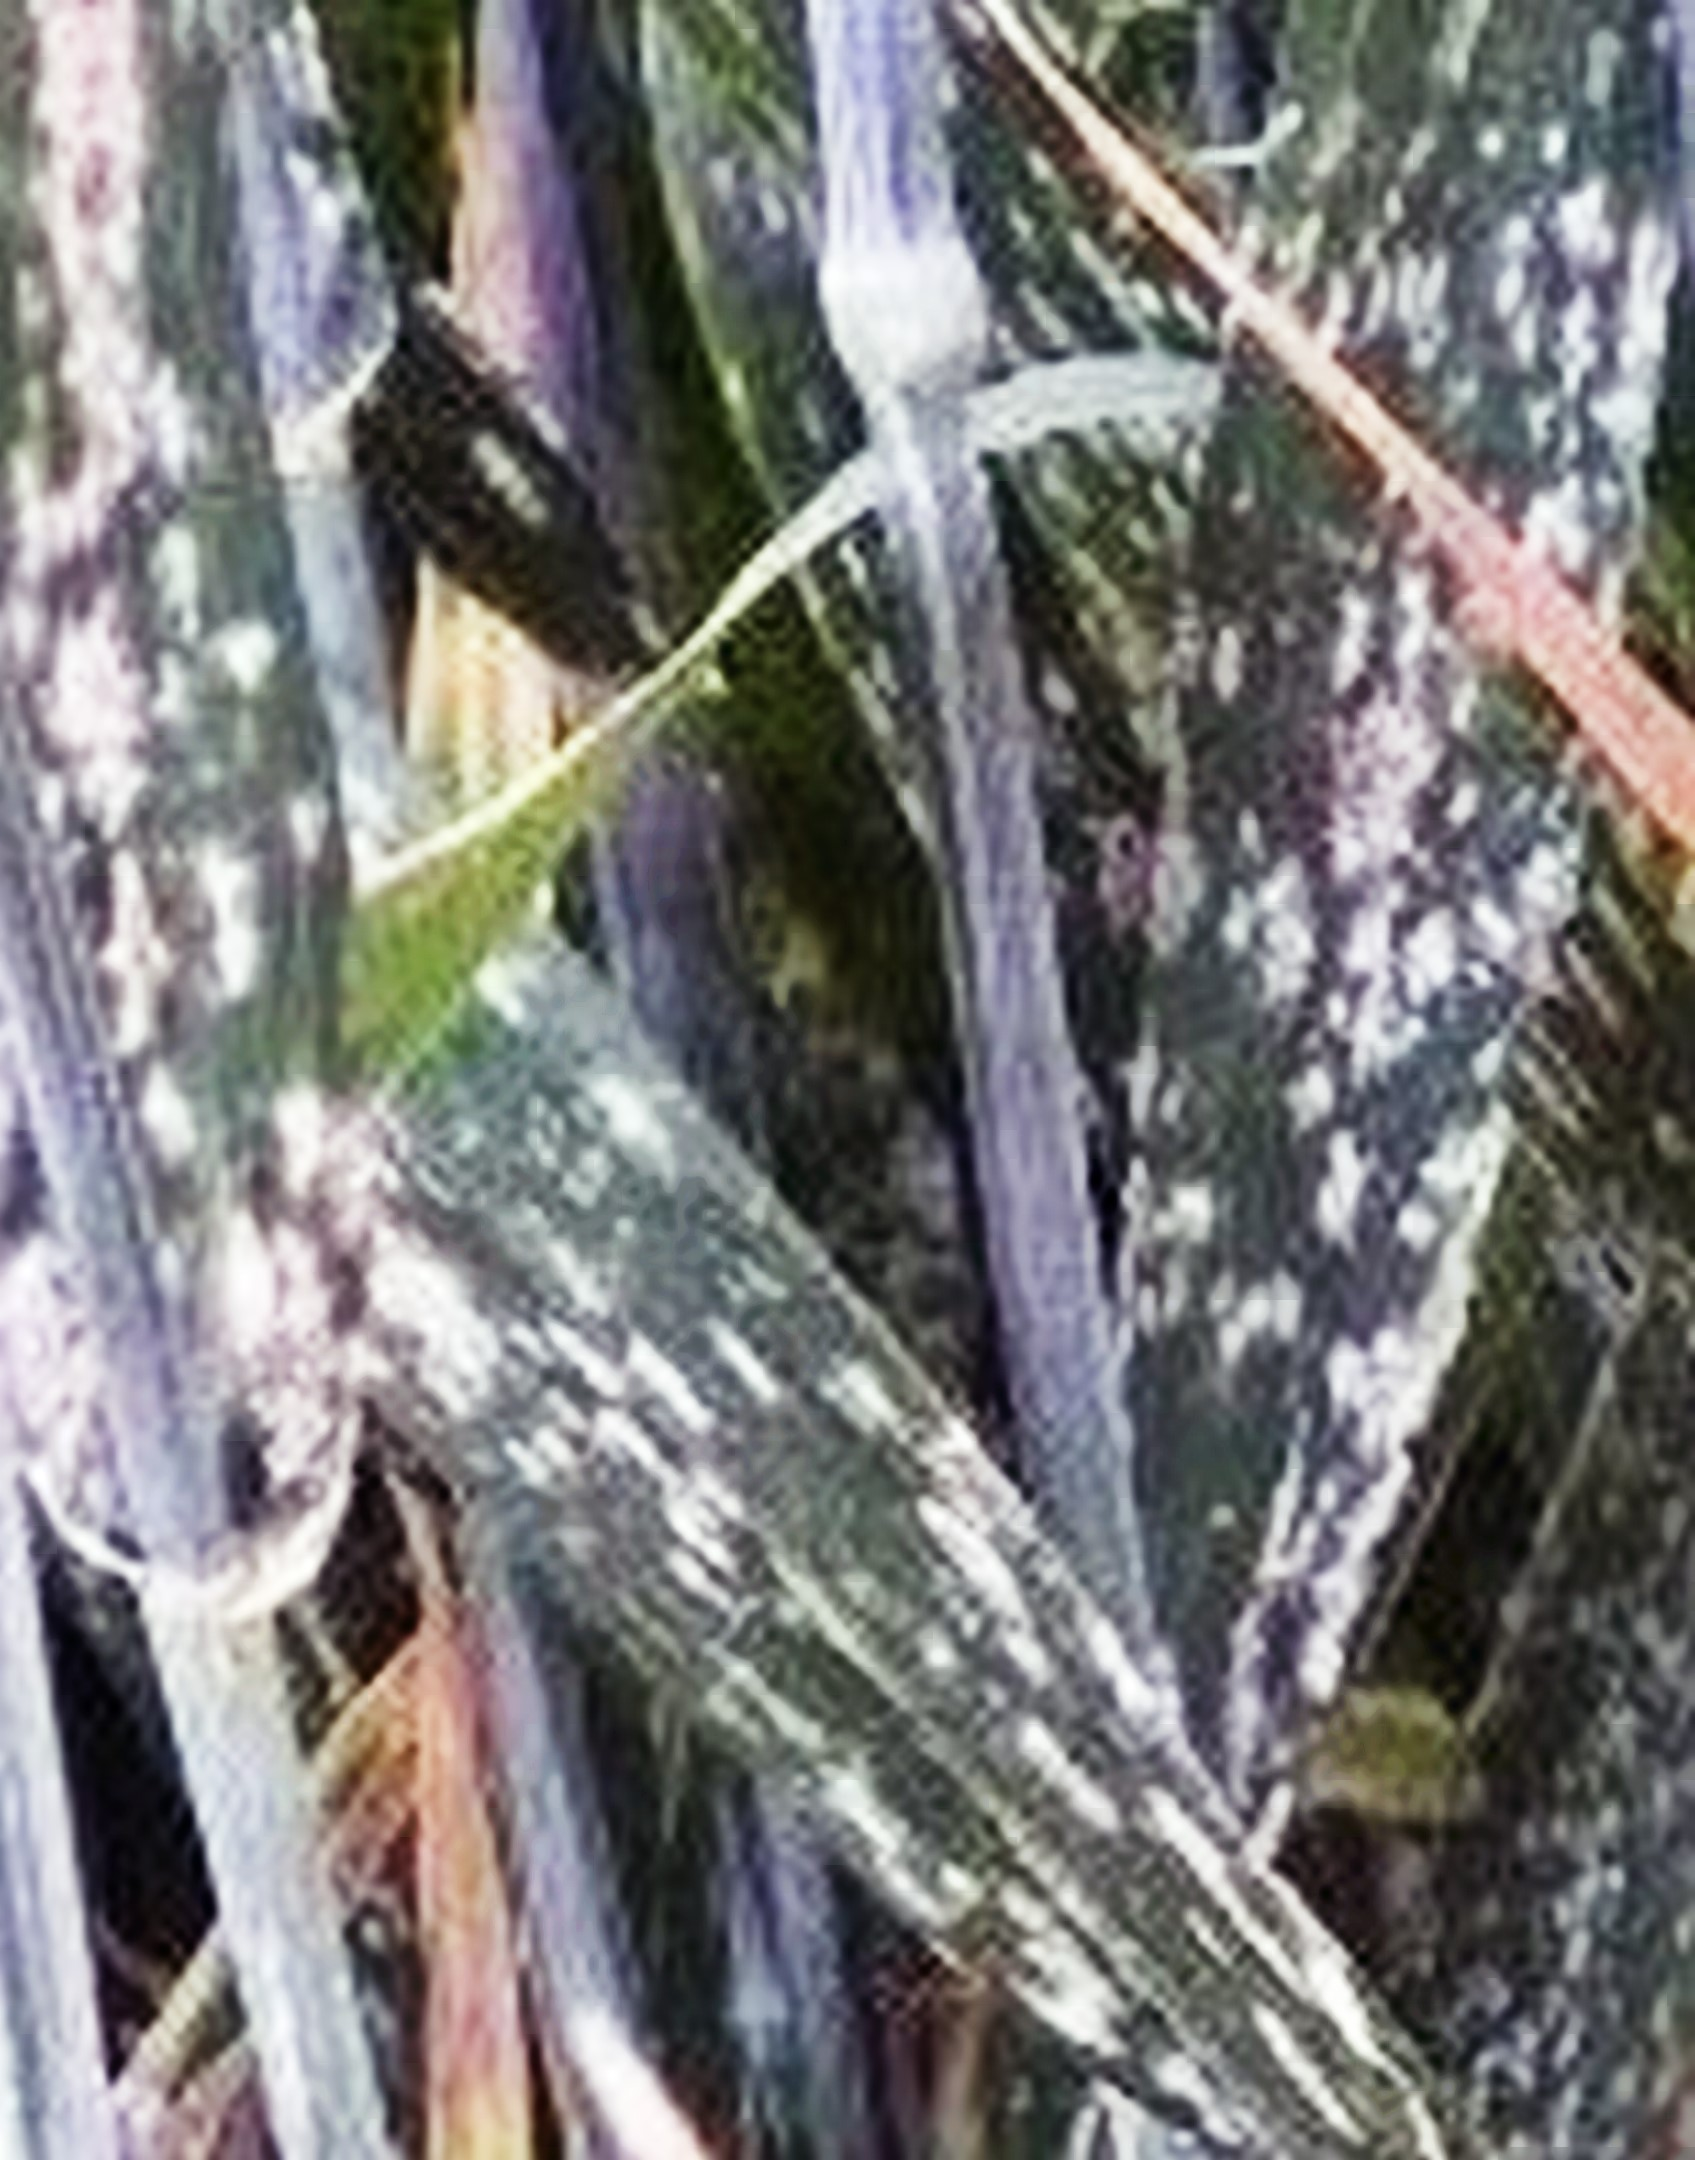Powdery Mildew: (1043, 368, 1606, 1664)
